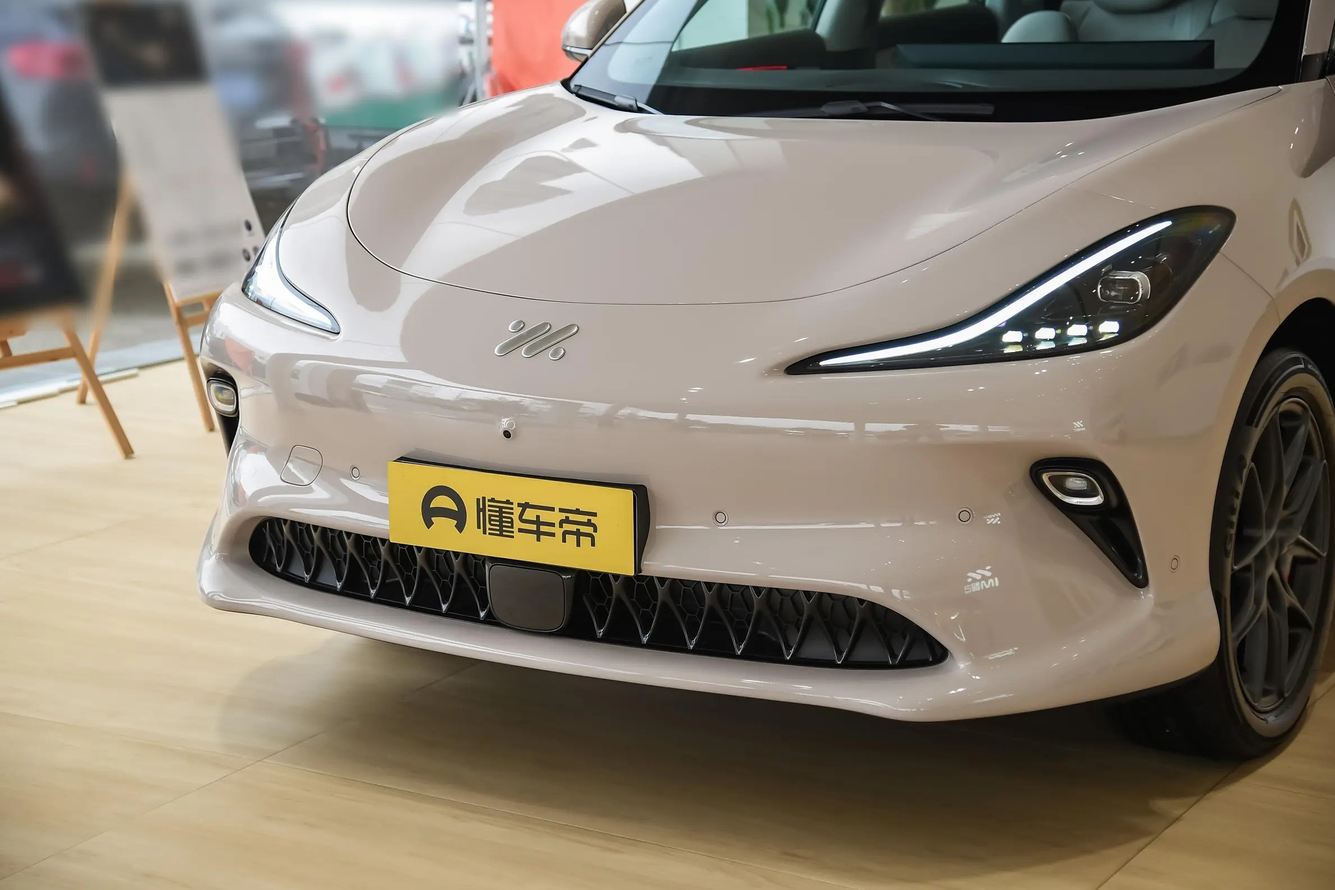IM: (495, 321, 579, 360)
